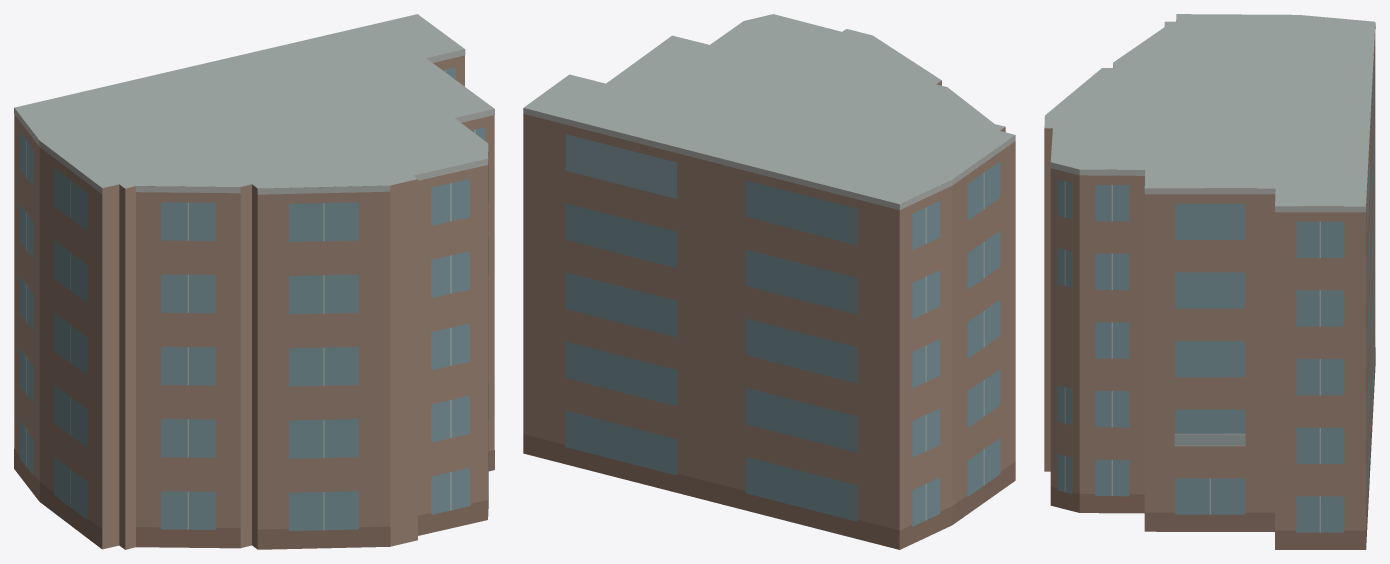
Rendered from survey-upis-32661519.glb.
The picture shows the model from 3 angles, left to right: view 1: azimuth 30°, elevation 25°; view 2: azimuth 150°, elevation 25°; view 3: azimuth 270°, elevation 25°; orthographic projection. The views are drawn at different scales.
Visible parts, largest first — view 1: survey-upis-32661519.tmp; view 2: survey-upis-32661519.tmp; view 3: survey-upis-32661519.tmp.
Part boxes in pixels (x1,y1,x2,y2): survey-upis-32661519.tmp: [14, 14, 494, 549]; survey-upis-32661519.tmp: [523, 14, 1015, 549]; survey-upis-32661519.tmp: [1044, 14, 1375, 549].
Size of the model in its own units: 17.08 by 14.2 by 12.41.
